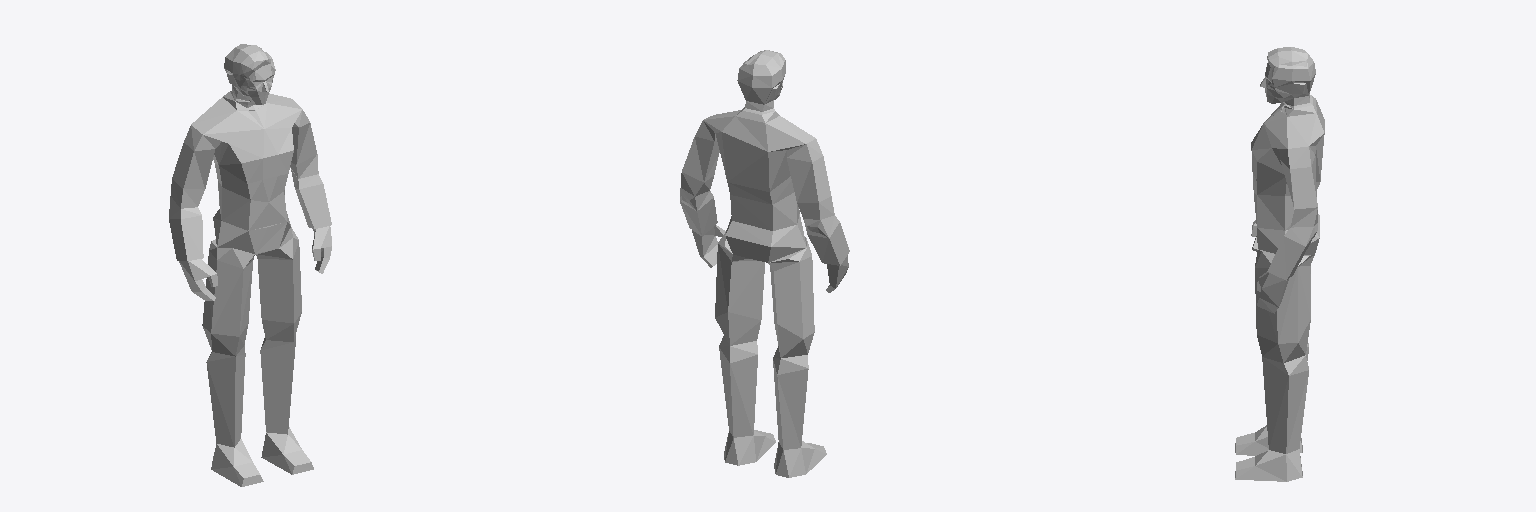
File: Manuel79.obj
3 renders of one model, left to right at view 1: azimuth 30°, elevation 25°; view 2: azimuth 150°, elevation 25°; view 3: azimuth 270°, elevation 25°, orthographic.
Visible parts, largest first — view 1: leon; view 2: leon; view 3: leon.
Boxes of the visible parts, x1,y1,x2,y2 form: leon: [169, 44, 331, 486]; leon: [680, 50, 849, 477]; leon: [1235, 47, 1324, 481].
Size of the model in its own units: 4.68 by 12.19 by 2.39.